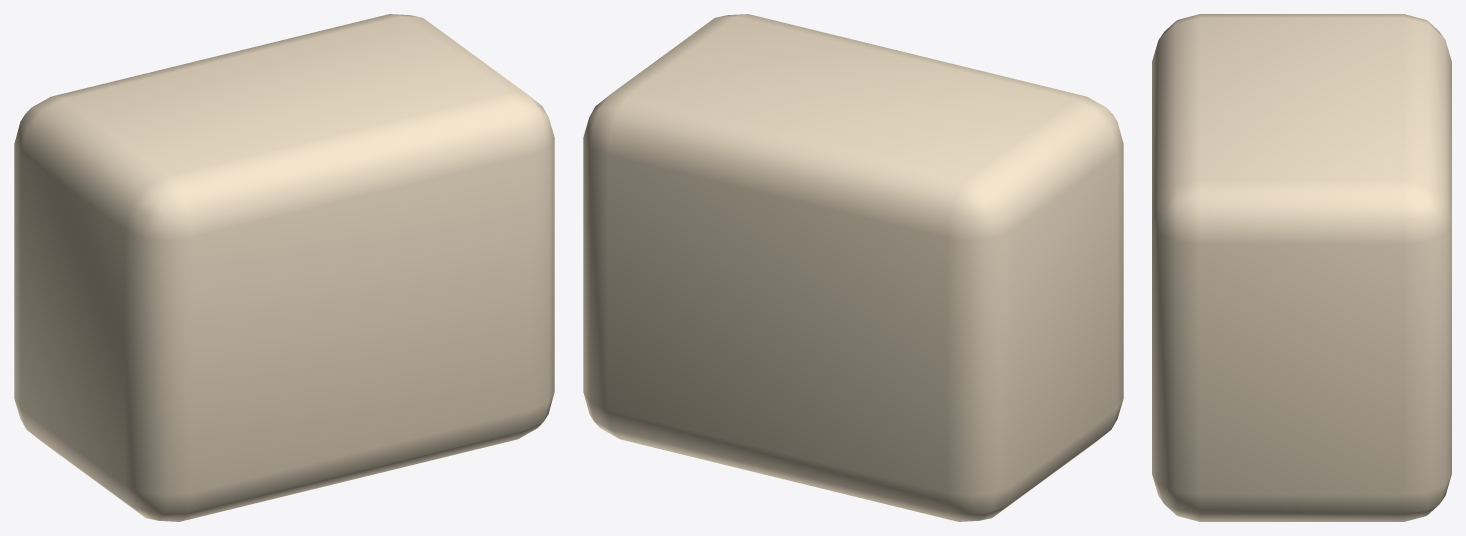
Rendered from batteries_c.glb.
3 views of the same model, side by side, from view 1: azimuth 30°, elevation 25°; view 2: azimuth 150°, elevation 25°; view 3: azimuth 270°, elevation 25° (orthographic).
Parts seen in each view (by area): view 1: body; view 2: body; view 3: body.
Boxes of the visible parts, <box> form: body: <box>14,14,554,521</box>; body: <box>583,14,1123,521</box>; body: <box>1152,14,1451,521</box>.
Bounding box in the file's own units: 0.08 × 0.062 × 0.05.
